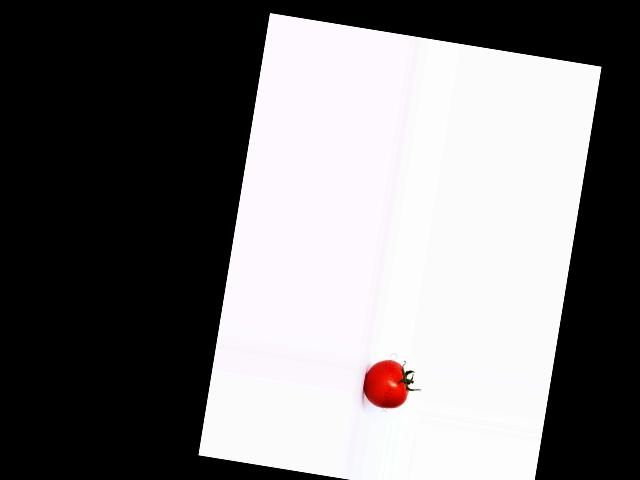tomato: (361, 357, 412, 411)
